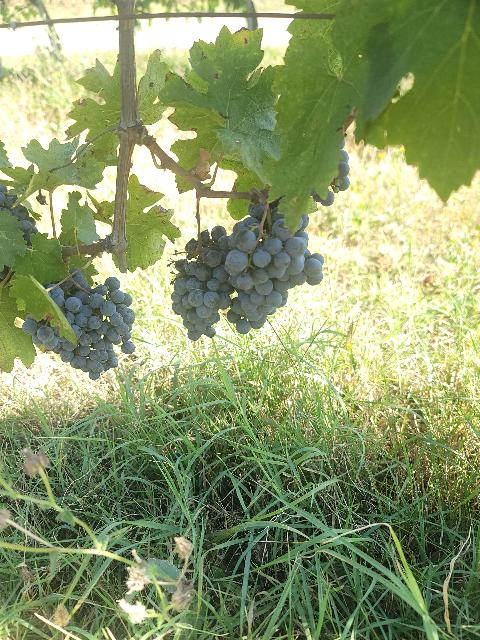grapes: (224, 204, 324, 329), (22, 269, 135, 379), (171, 225, 234, 340)
